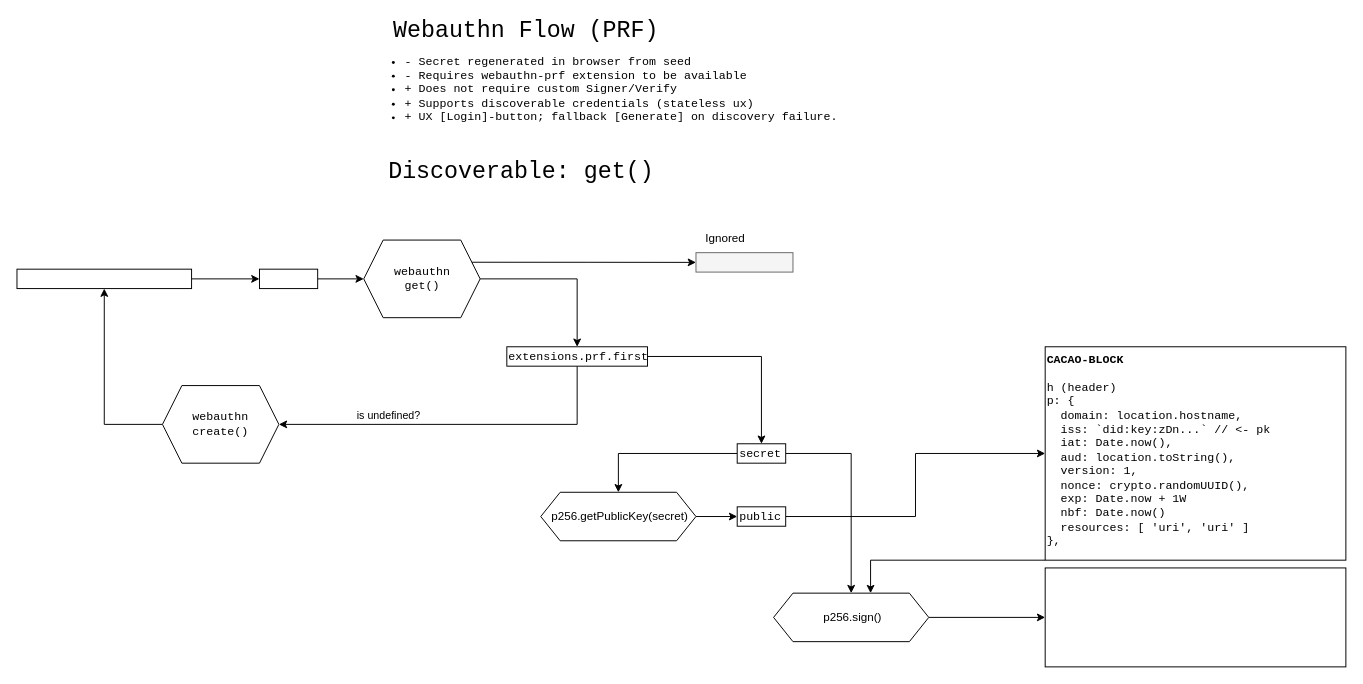
Some shapes in this 1363 by 684 pixel diagram are drawn without their labels. Each missing label, with the centre of its shape:
CredentialID: (x=744, y=262)
prf-input: (x=288, y=278)
s: { t: `webauthn:p256:` s: `DERSIG`, // <-- SIG aad: `....` // <-- AAD }: (x=1195, y=617)
sha256(location.hostname + '_sign'): (x=104, y=278)
